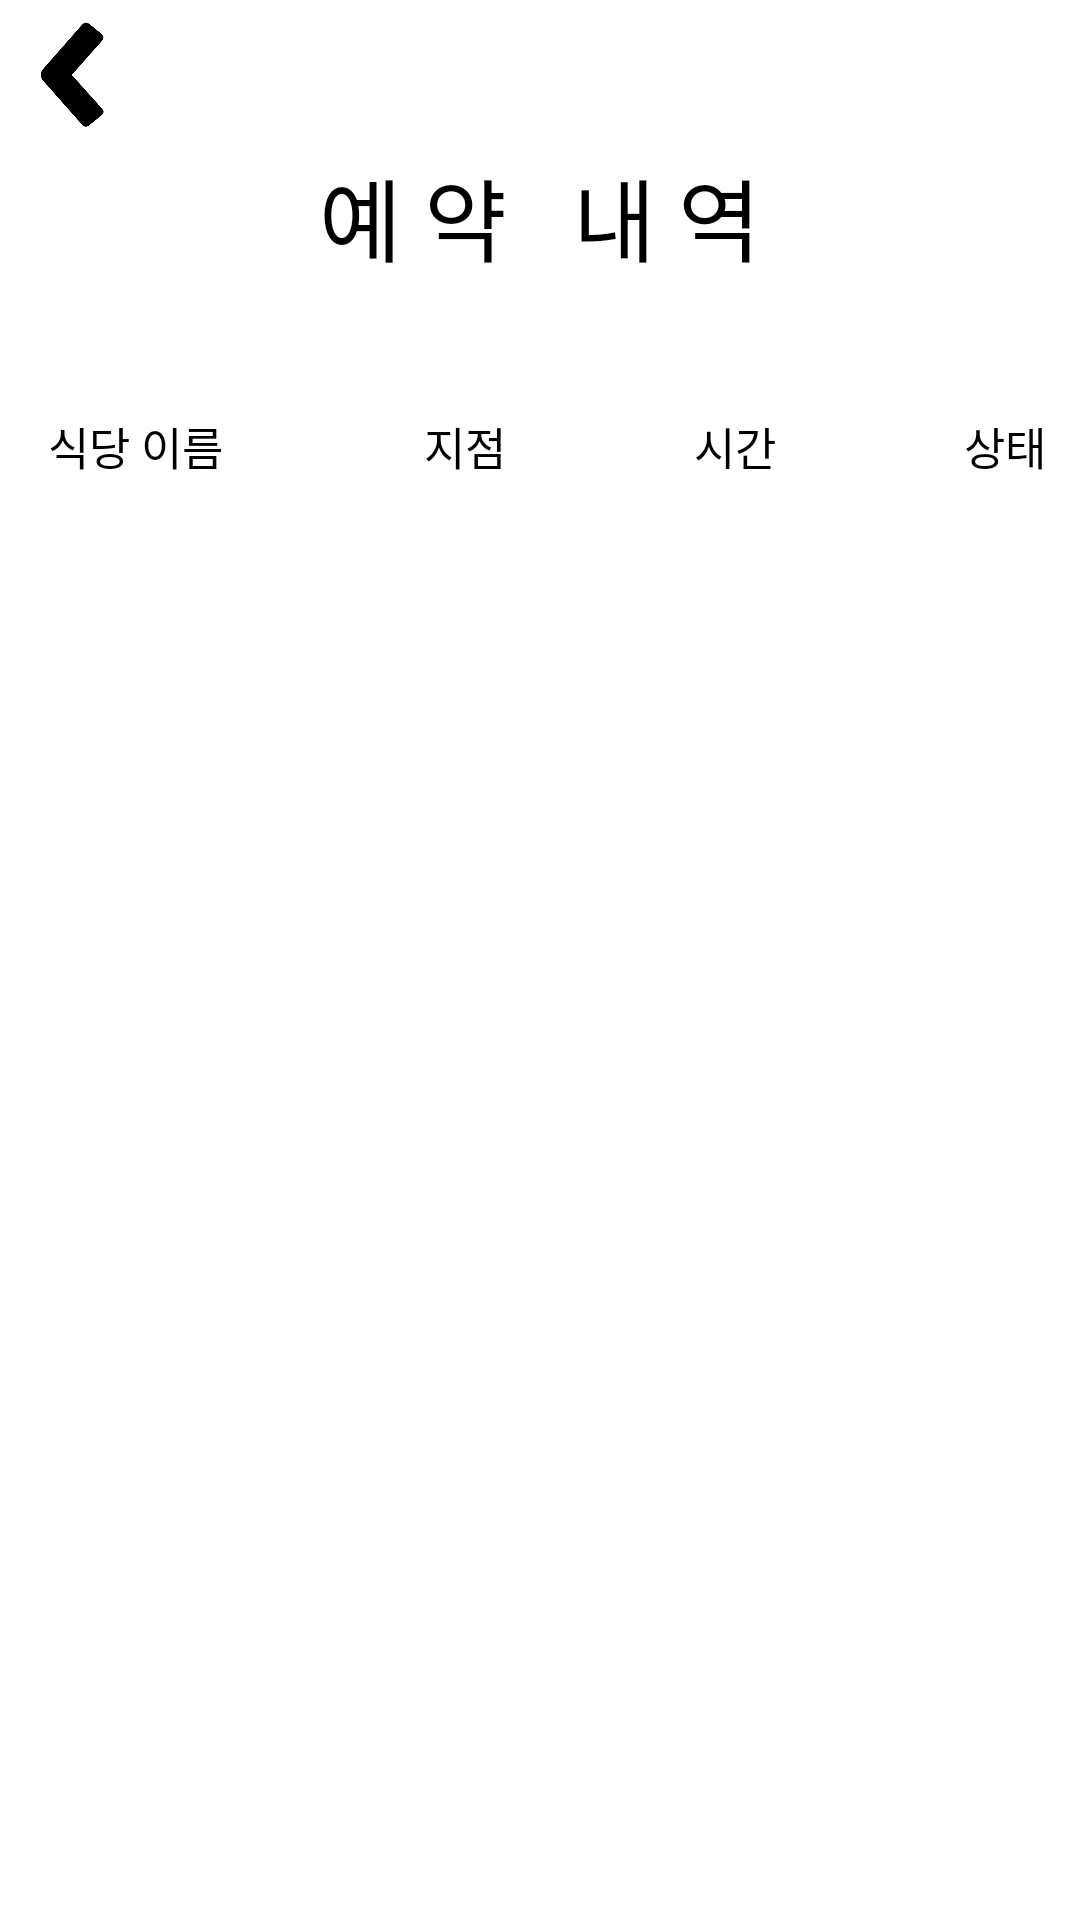

Locate icon controls on the screen. Image size 1080x1920, boxes as (left=x1, top=y1, right=x2, bottom=y2).
backbutton: (left=41, top=22, right=104, bottom=127)
